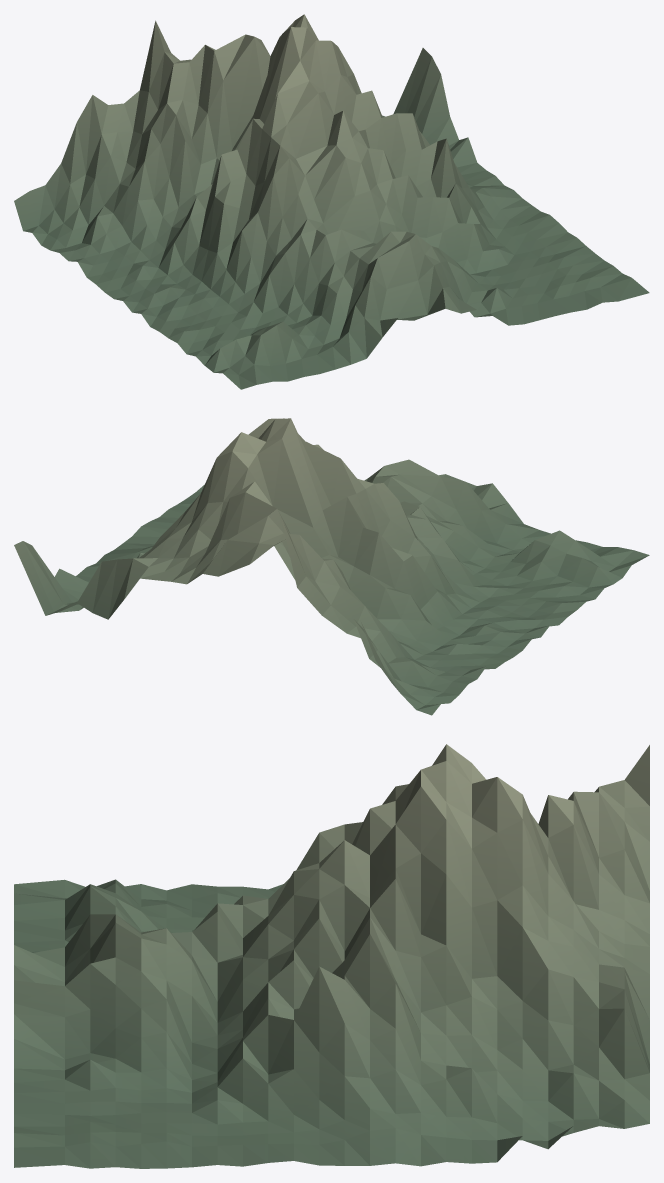
The model's file is tile_0_2.glb.
3 views of the same model, one above another, from view 1: azimuth 30°, elevation 25°; view 2: azimuth 150°, elevation 25°; view 3: azimuth 270°, elevation 25° (orthographic). The views are drawn at different scales.
Visible parts, largest first — view 1: geometry_0; view 2: geometry_0; view 3: geometry_0.
Part boxes in pixels (x1,y1,x2,y2): geometry_0: [14, 14, 649, 389]; geometry_0: [14, 418, 649, 715]; geometry_0: [14, 744, 649, 1168].
Bounding box in the file's own units: 127 × 60.83 × 123.
